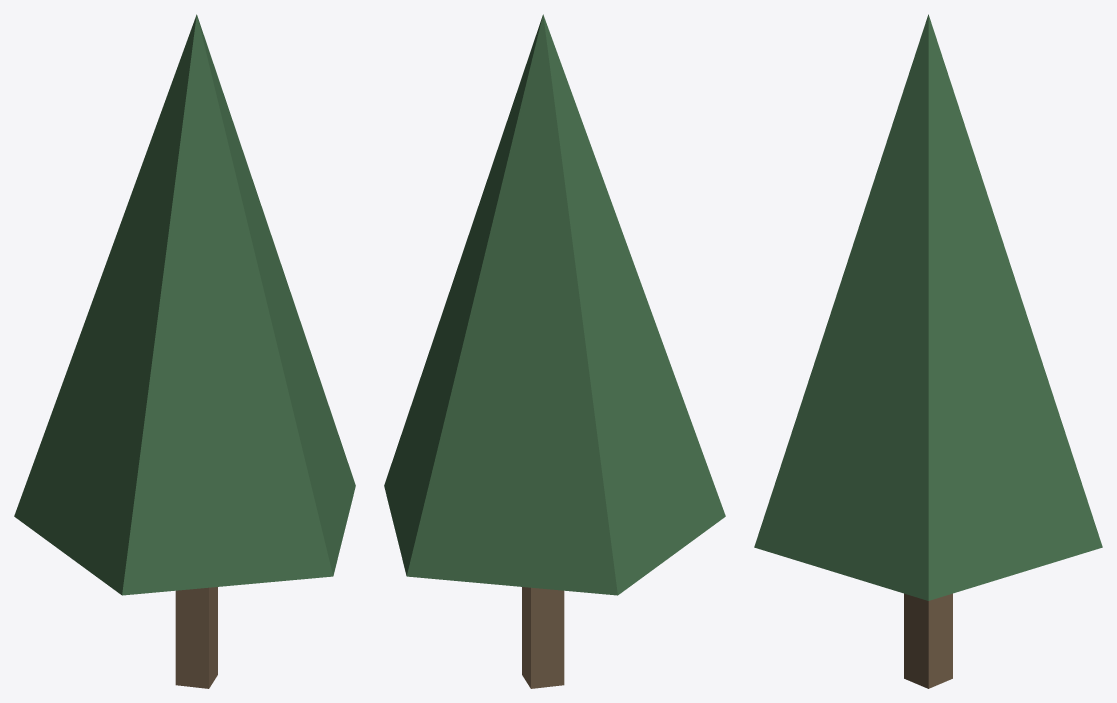
File: pine_far.glb
The picture shows the model from 3 angles, left to right: view 1: azimuth 30°, elevation 25°; view 2: azimuth 150°, elevation 25°; view 3: azimuth 270°, elevation 25°; orthographic projection.
Visible parts, largest first — view 1: pine; view 2: pine; view 3: pine.
Part boxes in pixels (x1,y1,x2,y2): pine: (14, 14, 355, 688); pine: (384, 14, 725, 688); pine: (754, 14, 1102, 688).
Size of what is drawn, in the model's own units: 2.71 by 6 by 2.85.
